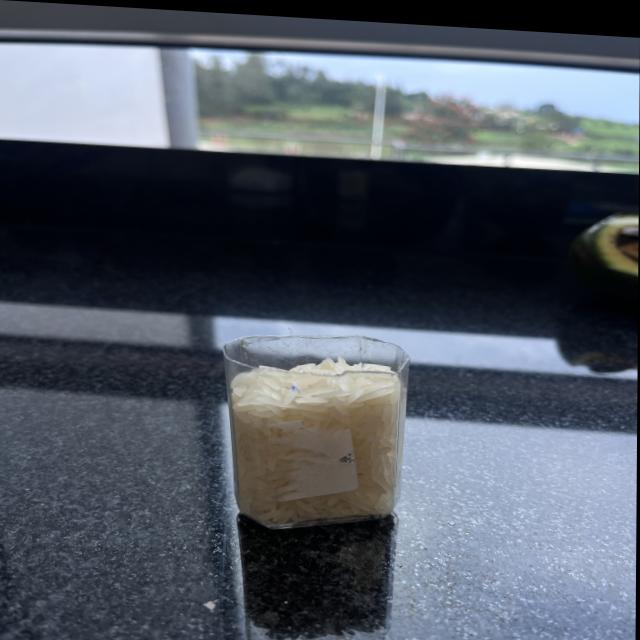raw_rice: (232, 350, 403, 522)
